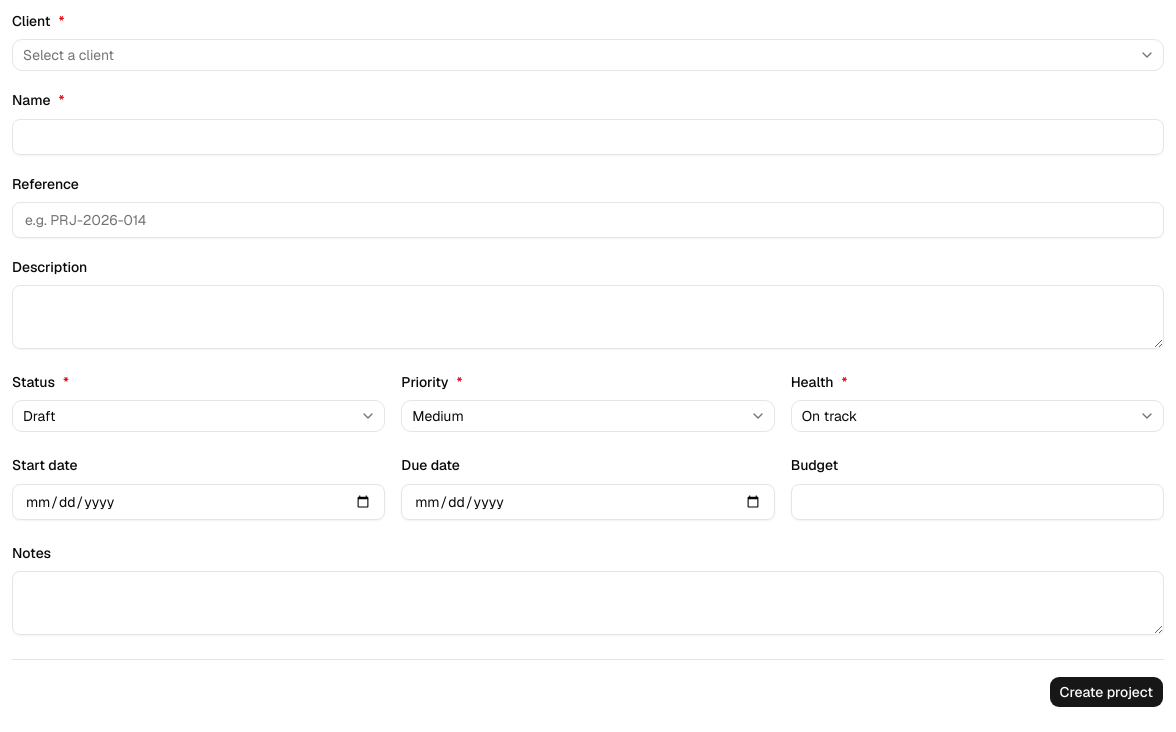
Test case: ProjectForm (create mode) › rejects a due date that is before the start date
Type "My project" into the field labelled "Name *" at (588, 136), box 12,118 -> 1164,154
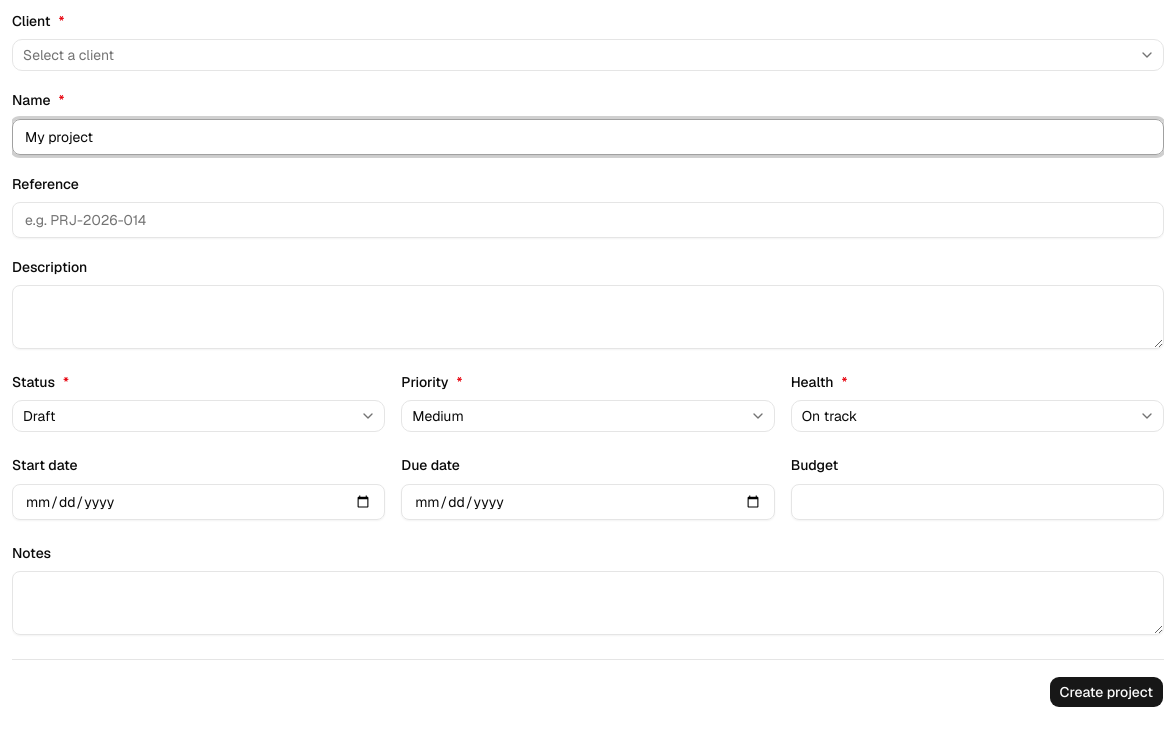
Type "2026-05-10" into the date field labelled "Start date" at (199, 502), box 12,484 -> 385,520
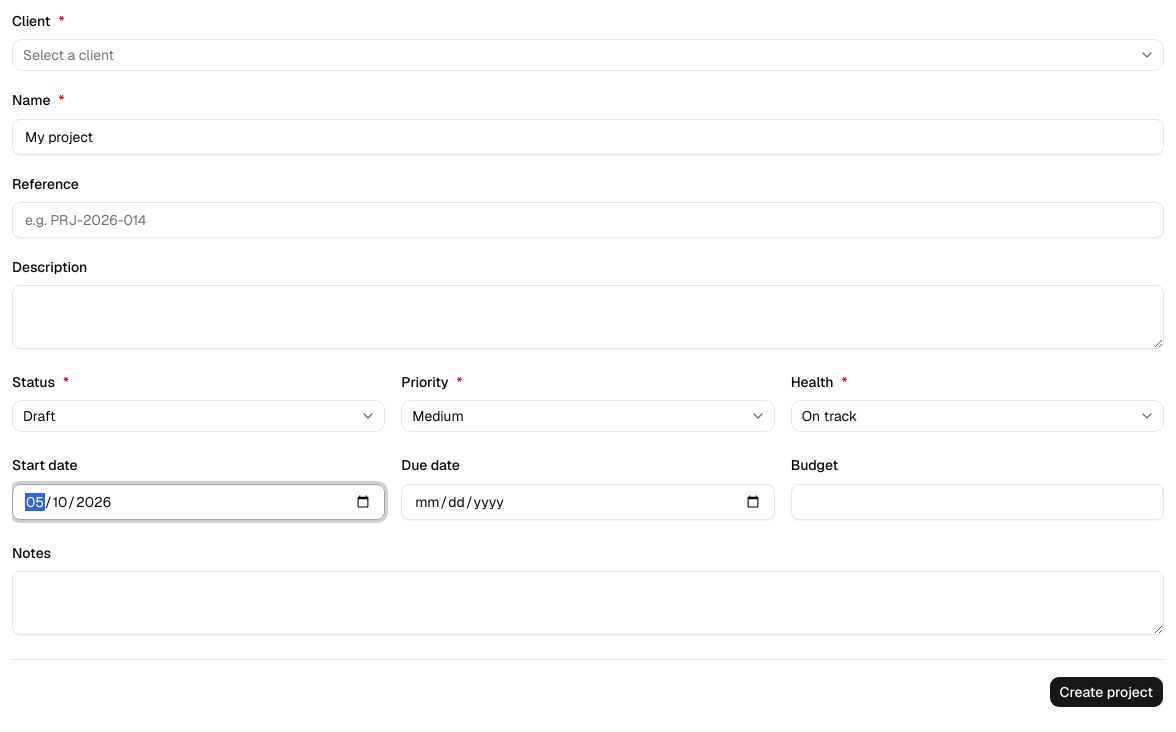
Type "2026-05-01" into the date field labelled "Due date" at (588, 502), box 401,484 -> 775,520
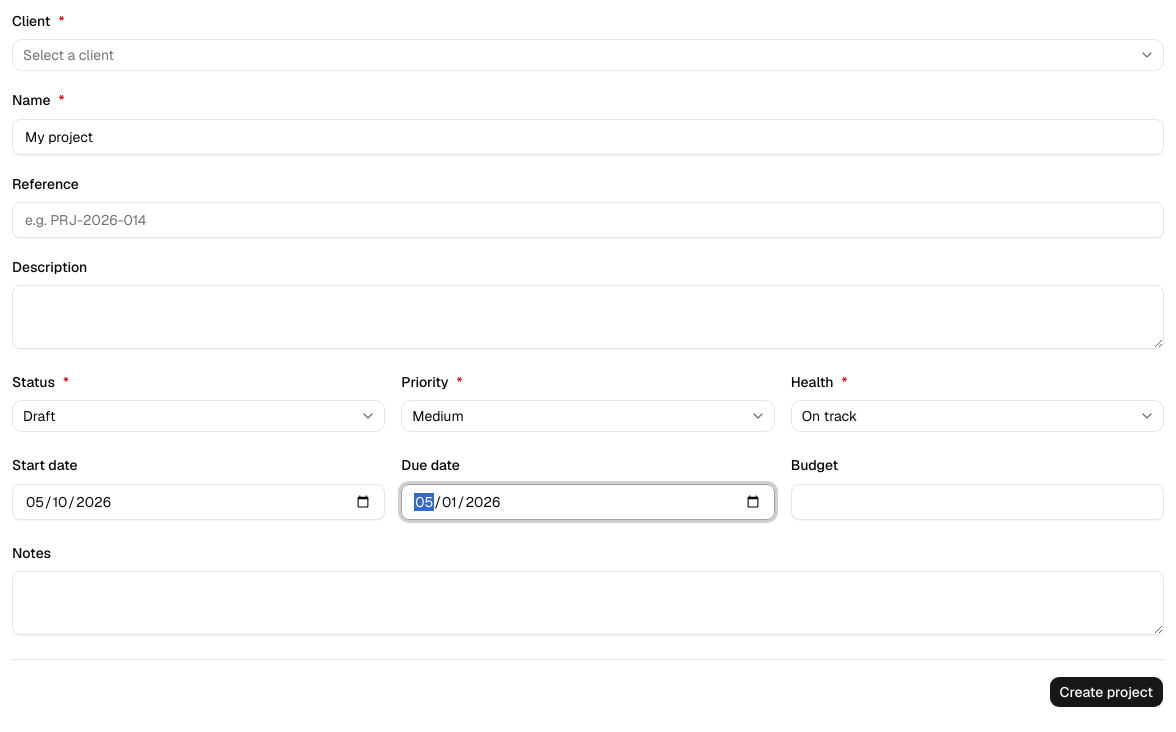
Click the button "Create project" at (1106, 692), box 1049,676 -> 1164,708
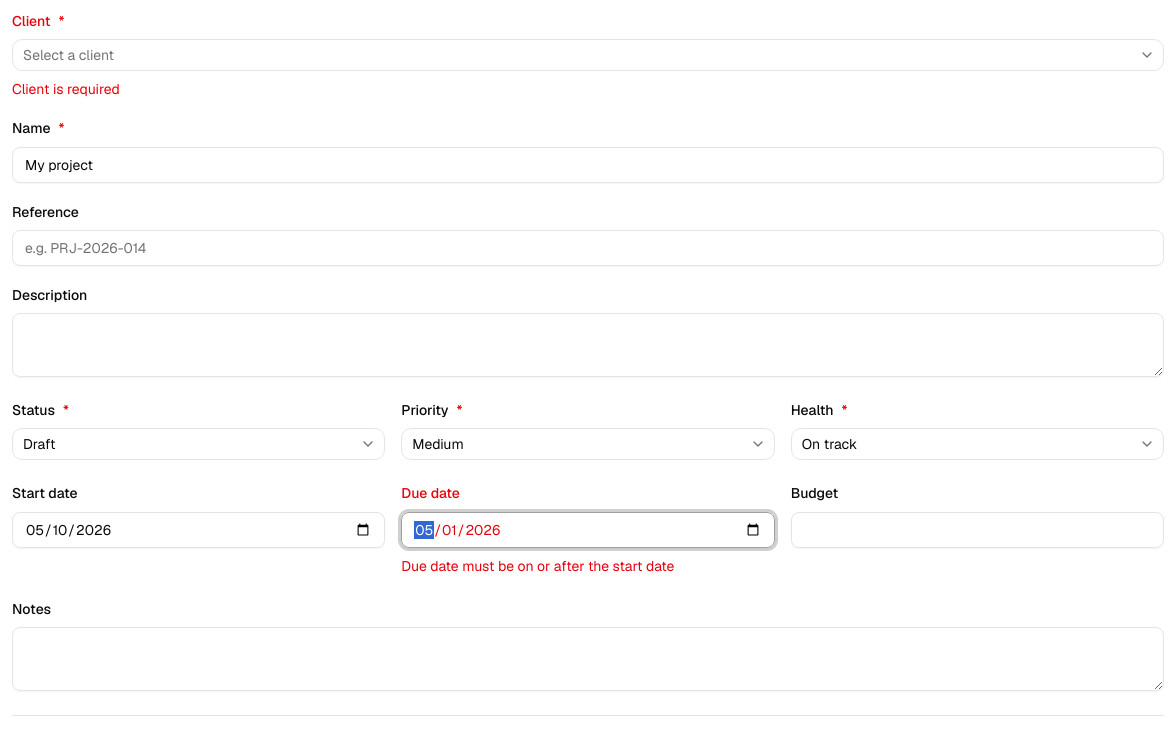
Result: the text "Due date must be on or after the start date" is shown at 401,556 -> 674,574
